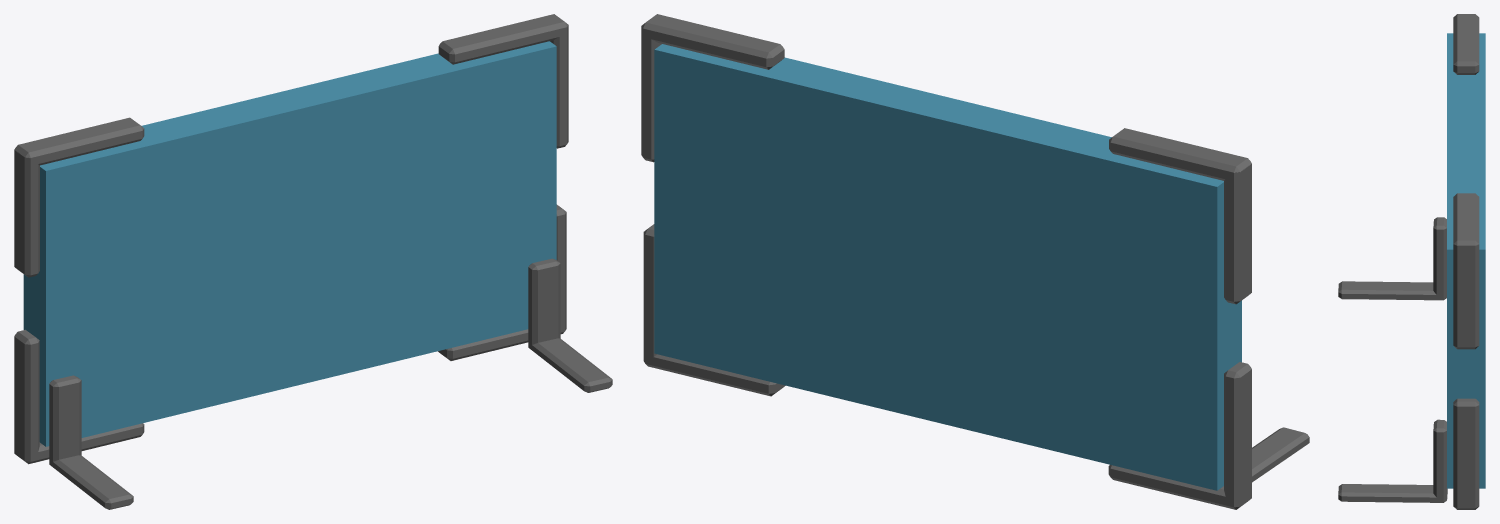
Rendered from Sign.fbx.
3 renders of one model, left to right at view 1: azimuth 30°, elevation 25°; view 2: azimuth 150°, elevation 25°; view 3: azimuth 270°, elevation 25°, orthographic. The views are drawn at different scales.
Parts seen in each view (by area): view 1: polySurface6; view 2: polySurface6; view 3: polySurface6.
Boxes of the visible parts, x1=… form: polySurface6: x1=14, y1=14, x2=612, y2=509; polySurface6: x1=641, y1=14, x2=1309, y2=509; polySurface6: x1=1338, y1=14, x2=1485, y2=509.
Bounding box in the file's own units: 34.01 × 18.67 × 9.22.
